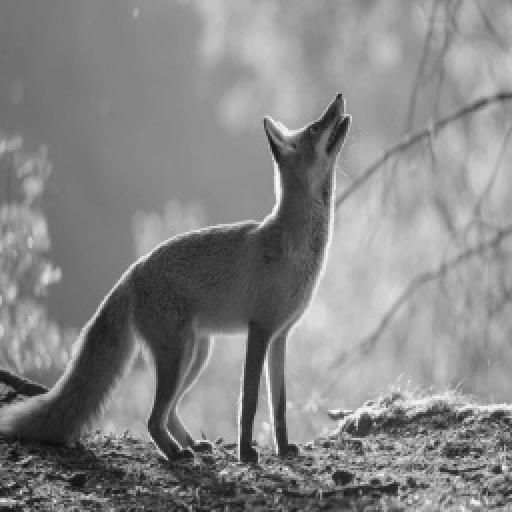zorro: (2, 96, 350, 460)
